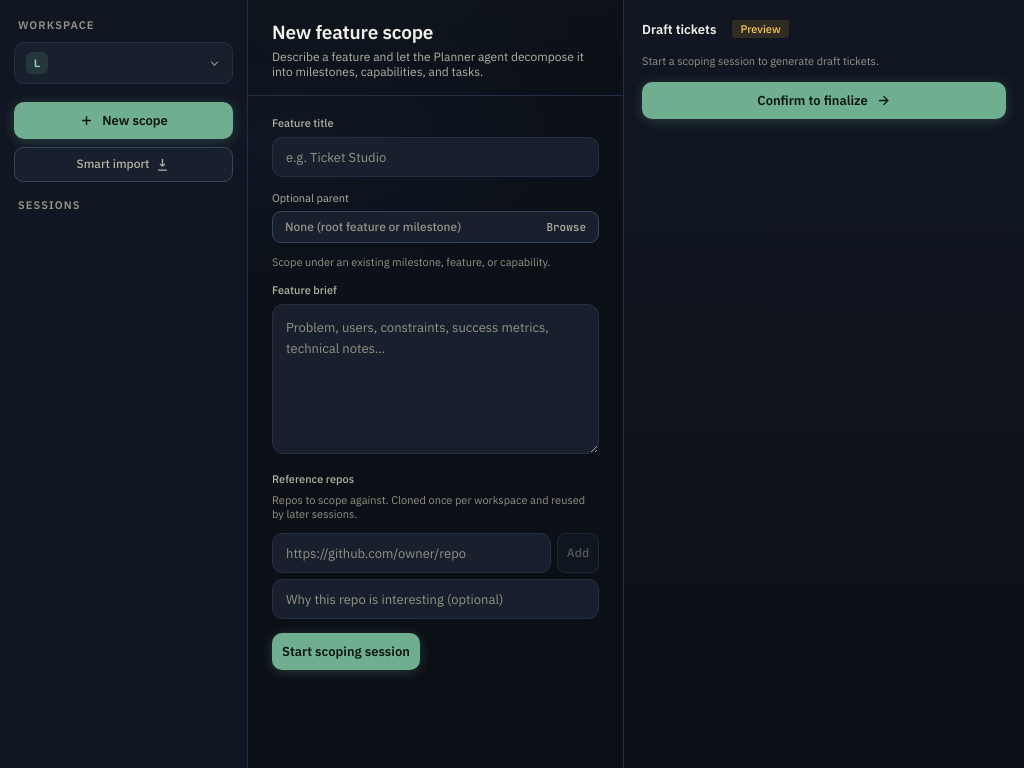
INT-PREVIEW-1: Button Interaction Verification › INT-PREVIEW-1.2: clicking the (enabled) finalize button opens the confirm dialog, not the API directly
Click the button "Confirm to finalize" at (824, 100), box [642,82,1006,119]
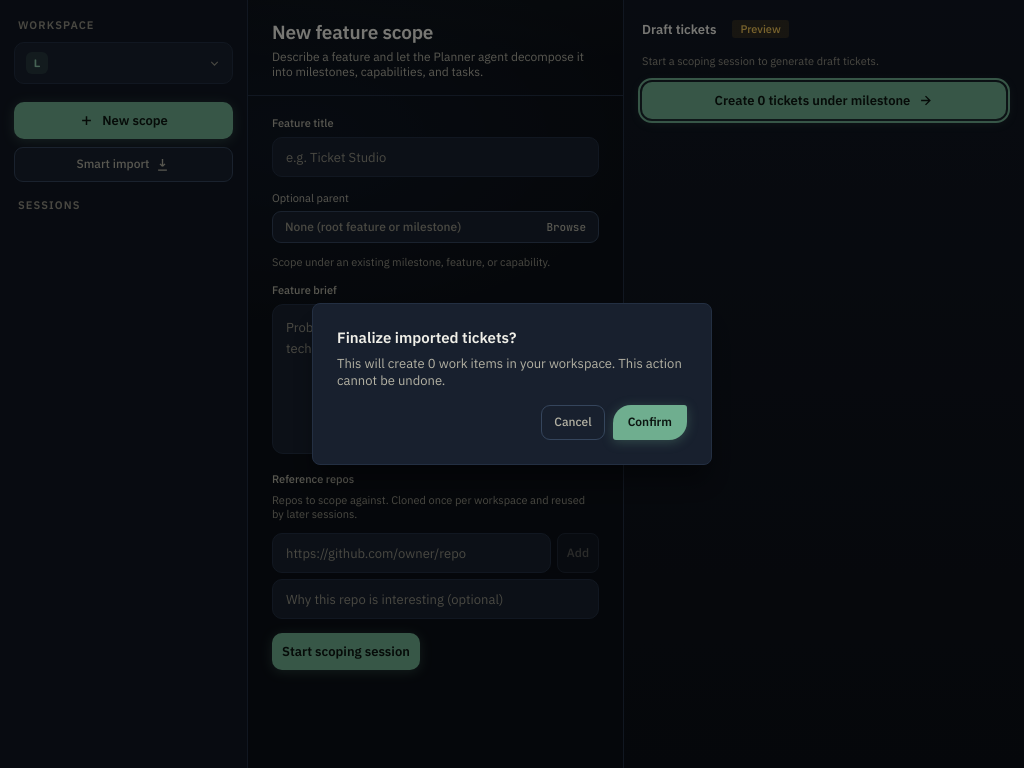
Now the heading "Finalize imported tickets?" is shown, box [337,328,516,347]
